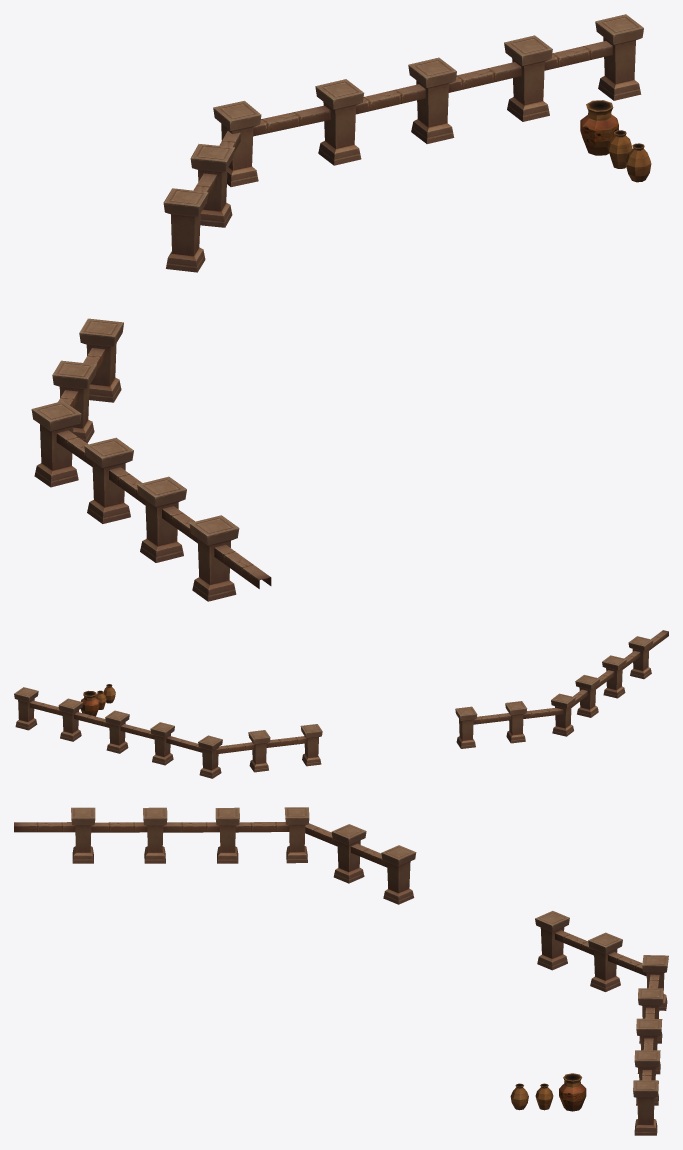
File: Area_10_12.fbx
3 views of the same model, one above another, from view 1: azimuth 30°, elevation 25°; view 2: azimuth 150°, elevation 25°; view 3: azimuth 270°, elevation 25° (orthographic). The views are drawn at different scales.
Parts seen in each view (by area): view 1: Area_10_12; view 2: Area_10_12; view 3: Area_10_12.
Boxes of the visible parts, x1,y1,x2,y2 form: Area_10_12: [31, 14, 651, 601]; Area_10_12: [14, 630, 668, 778]; Area_10_12: [14, 807, 668, 1135].
Size of the model in its own units: 2059 by 159 by 2010.
